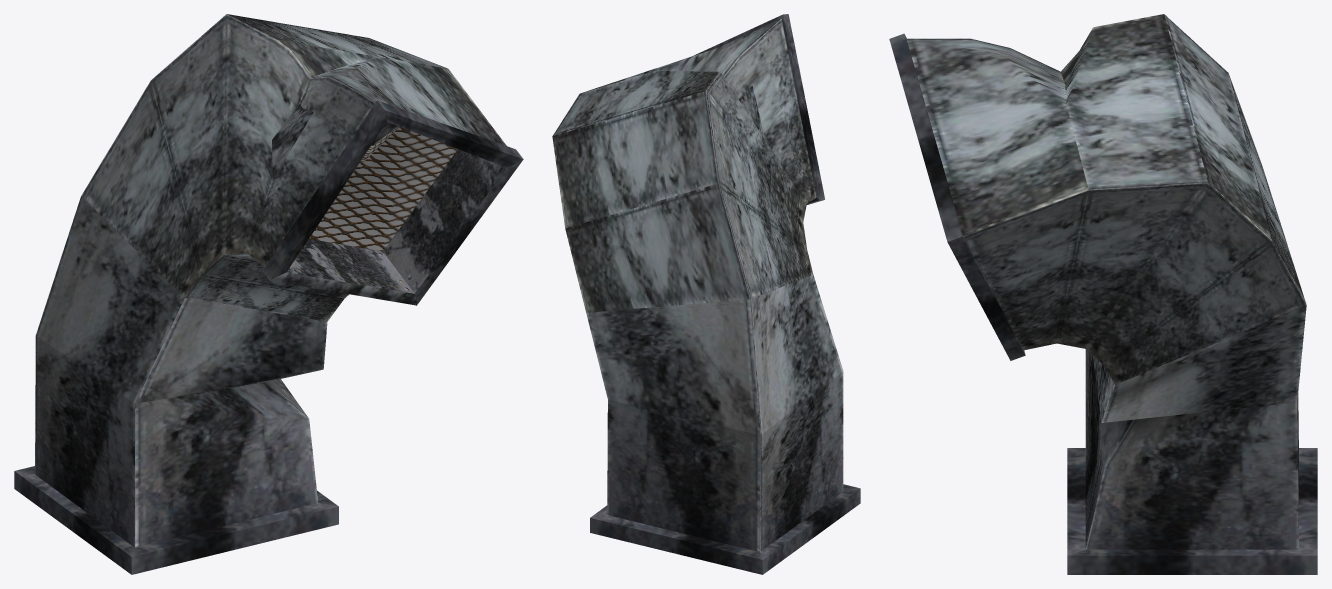
File: Fan_Wrecked_1.fbx
3 renders of one model, left to right at view 1: azimuth 30°, elevation 25°; view 2: azimuth 150°, elevation 25°; view 3: azimuth 270°, elevation 25°, orthographic. The views are drawn at different scales.
Parts seen in each view (by area): view 1: Fan_Wrecked_1; view 2: Fan_Wrecked_1; view 3: Fan_Wrecked_1.
Part boxes in pixels (x1,y1,x2,y2): Fan_Wrecked_1: [14, 14, 523, 574]; Fan_Wrecked_1: [552, 14, 860, 574]; Fan_Wrecked_1: [889, 14, 1317, 574].
Bounding box in the file's own units: 124 × 174 × 128.
